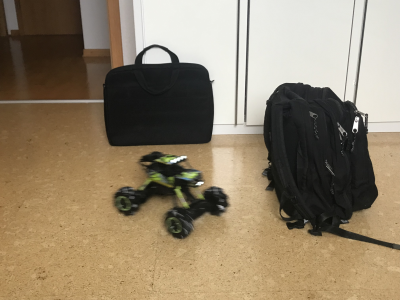remote control car: (109, 149, 233, 239)
